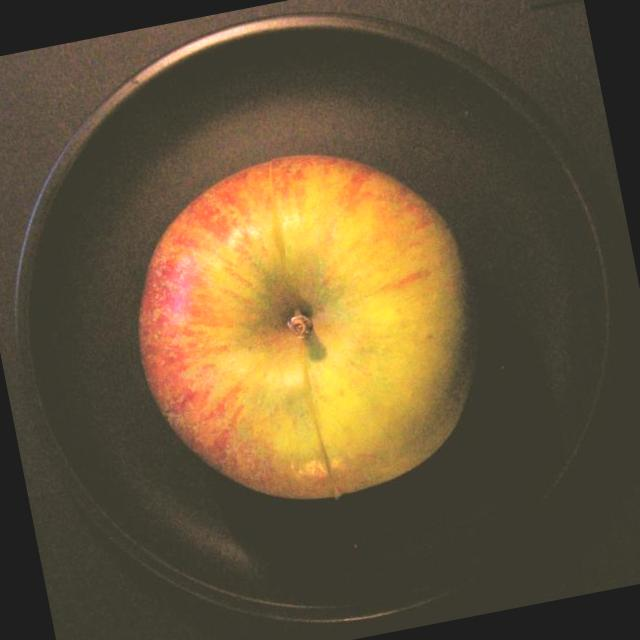Apple: (108, 125, 503, 530)
